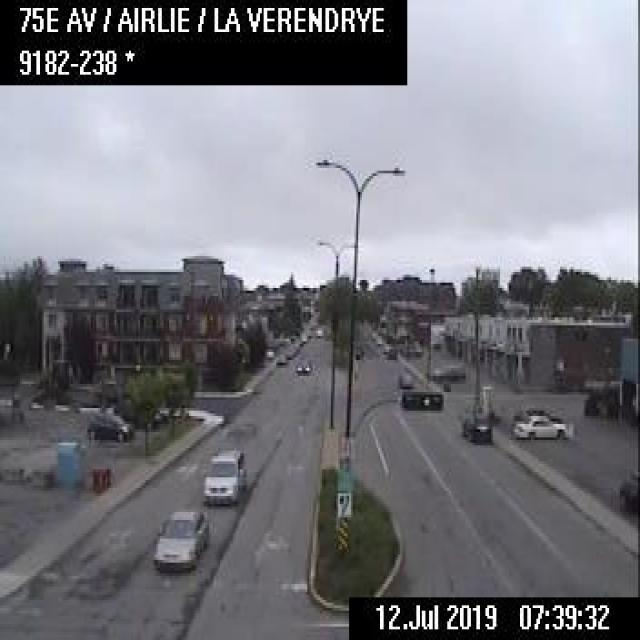construction: (96, 467, 102, 491), (99, 466, 105, 490), (104, 464, 110, 487)
vehicle: (153, 507, 209, 573), (200, 444, 244, 504), (85, 409, 132, 441), (513, 412, 565, 438), (460, 410, 495, 442), (616, 474, 636, 510), (431, 360, 464, 381), (396, 368, 413, 385), (292, 358, 311, 373), (384, 345, 400, 360), (274, 351, 288, 365)
